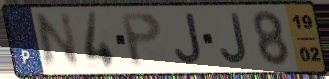4: (83, 9, 118, 71)
8: (251, 8, 291, 70)
J: (173, 12, 204, 67), (219, 12, 250, 66)
N: (33, 10, 83, 71)
P: (117, 10, 164, 70)
